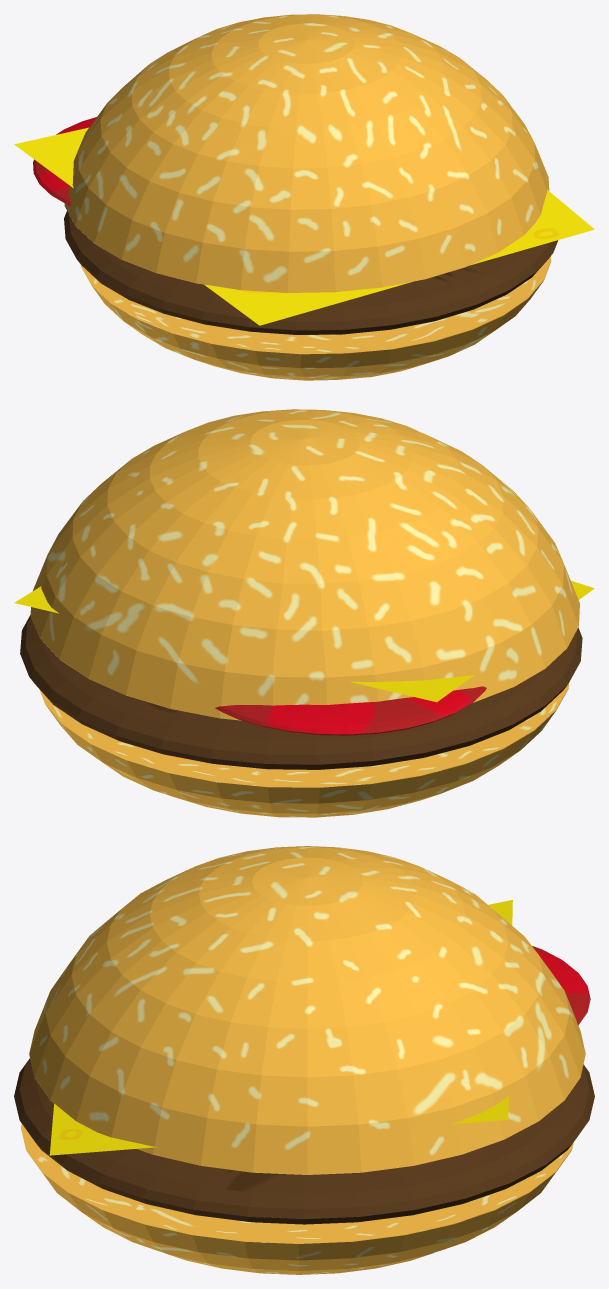
Rendered from burger.gltf.
The picture shows the model from 3 angles, top to bottom: view 1: azimuth 30°, elevation 25°; view 2: azimuth 150°, elevation 25°; view 3: azimuth 270°, elevation 25°; orthographic projection. The views are drawn at different scales.
Parts seen in each view (by area): view 1: Patty; view 2: Patty; view 3: Patty.
Part boxes in pixels (left/top/right/bottom): Patty: left=14, top=14, right=594, bottom=380; Patty: left=14, top=409, right=594, bottom=817; Patty: left=14, top=846, right=594, bottom=1274.
Bounding box in the file's own units: 2.01 × 1.32 × 2.
Materials: 7 (7 with a texture image).
